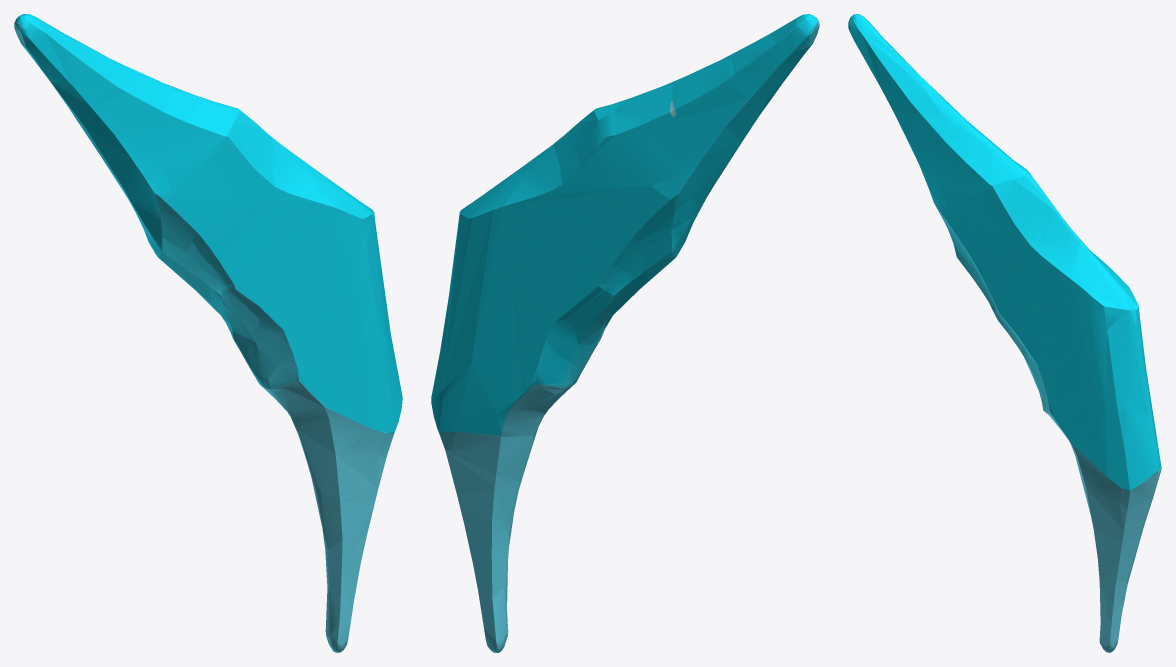
File: icicle-single.glb
The picture shows the model from 3 angles, left to right: view 1: azimuth 30°, elevation 25°; view 2: azimuth 150°, elevation 25°; view 3: azimuth 330°, elevation 25°; orthographic projection. The views are drawn at different scales.
Bounding box in the file's own units: 1.07 × 1.9 × 0.1724.
Materials: 1 (1 with a texture image).
